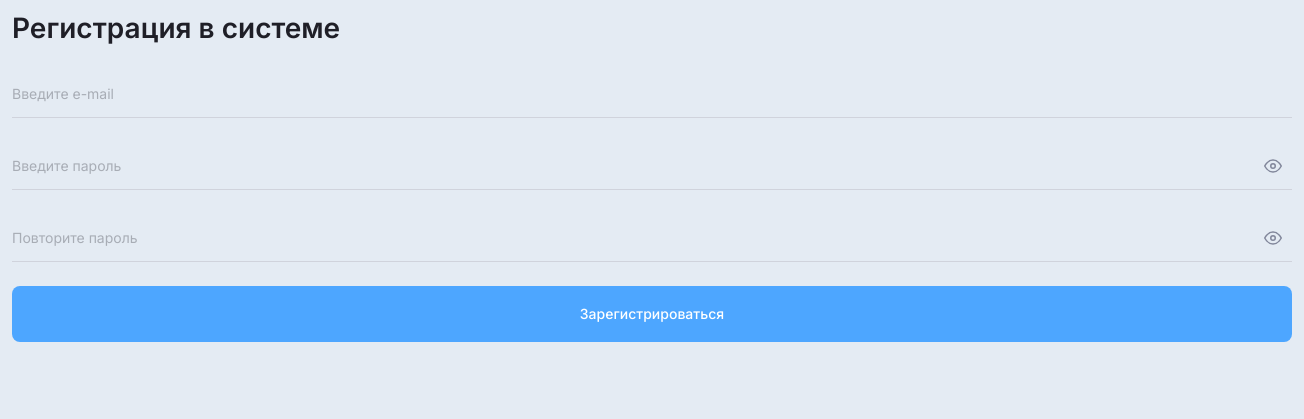
Test: SignUpForm › shows required validation errors on empty submit
What coordinates should you click on to do the following:
click the button "Зарегистрироваться"
I would click on:
 (652, 314)
Its box is [12,286,1292,342].
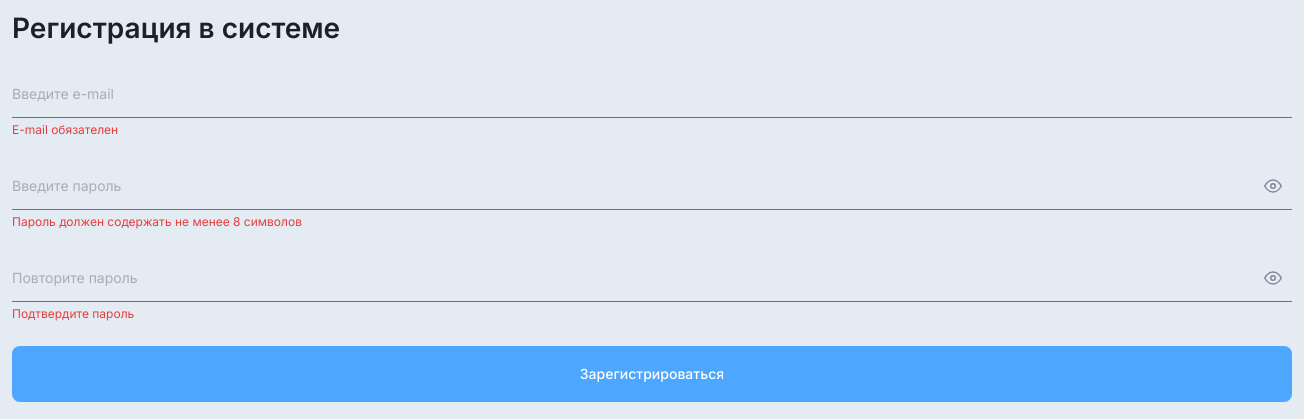
expect the text "E-mail обязателен" is shown: met, box [12,122,118,137]
